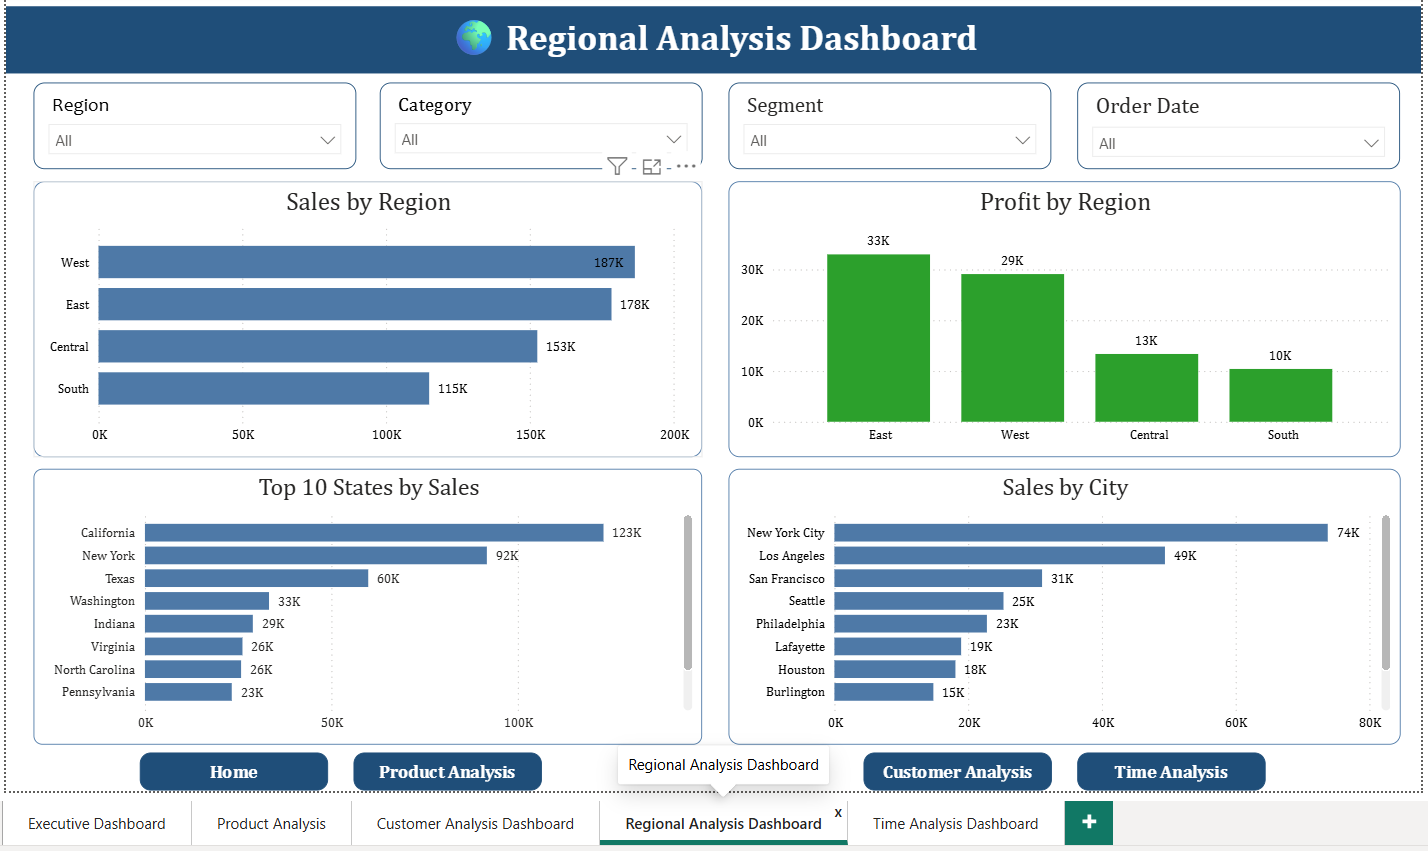

What the dashboard file says about the page in this screenshot:
{"tool":"powerbi","page":{"name":"Regional Analysis Dashboard","canvas":[1280,720],"ordinal":3},"visuals":[{"type":"textbox","box":[0,10.5,1280.2,61],"z":0},{"type":"slicer","fields":{"Values":["superstore_clean.Region"]},"box":[24.7,79.6,292.3,78.2],"z":1000},{"type":"slicer","fields":{"Values":["superstore_clean.Category"]},"box":[337.6,79.6,292.3,78.2],"z":2000},{"type":"slicer","fields":{"Values":["superstore_clean.Segment"]},"box":[653.2,79.6,292.3,78.2],"z":3000},{"type":"slicer","fields":{"Values":["superstore_clean.Order Date"]},"box":[968.8,79.6,292.3,78.2],"z":4000},{"type":"clusteredBarChart","title":"Sales by Region","fields":{"Category":["superstore_clean.Region"],"Y":["Sum(superstore_clean.Sales)"]},"box":[24.7,168.8,605.1,249.7],"z":5000},{"type":"clusteredColumnChart","title":"Profit by Region","fields":{"Category":["superstore_clean.Region"],"Y":["Sum(superstore_clean.Profit)"]},"box":[653.2,168.8,607.9,249.7],"z":6000},{"type":"clusteredBarChart","title":"Top 10 States by Sales","fields":{"Category":["superstore_clean.State"],"Y":["Sum(superstore_clean.Sales)"]},"box":[24.7,428.1,605.1,249.7],"z":7000},{"type":"clusteredBarChart","title":"Sales by City","fields":{"Category":["superstore_clean.City"],"Y":["Sum(superstore_clean.Sales)"]},"box":[653.2,428.1,607.9,249.7],"z":8000},{"type":"actionButton","box":[120.8,685.7,170.2,34.3],"z":9000},{"type":"actionButton","box":[314.2,685.7,170.2,34.3],"z":10000},{"type":"actionButton","box":[775.3,685.7,170.2,34.3],"z":11000},{"type":"actionButton","box":[968.8,685.7,170.2,34.3],"z":12000}]}

Visuals, with their boxes on the page's 1280x720 design canvas (x1, y1, x2, y2). These are canvas units, not pixel positions in the 1428x851 screenshot, which may show the page scaled, cropped or inside an application window:
textbox: [0,10,1280,72]
slicer - superstore_clean.Region: [25,80,317,158]
slicer - superstore_clean.Category: [338,80,630,158]
slicer - superstore_clean.Segment: [653,80,946,158]
slicer - superstore_clean.Order Date: [969,80,1261,158]
"Sales by Region" clusteredBarChart: [25,169,630,418]
"Profit by Region" clusteredColumnChart: [653,169,1261,418]
"Top 10 States by Sales" clusteredBarChart: [25,428,630,678]
"Sales by City" clusteredBarChart: [653,428,1261,678]
actionButton: [121,686,291,720]
actionButton: [314,686,484,720]
actionButton: [775,686,946,720]
actionButton: [969,686,1139,720]
